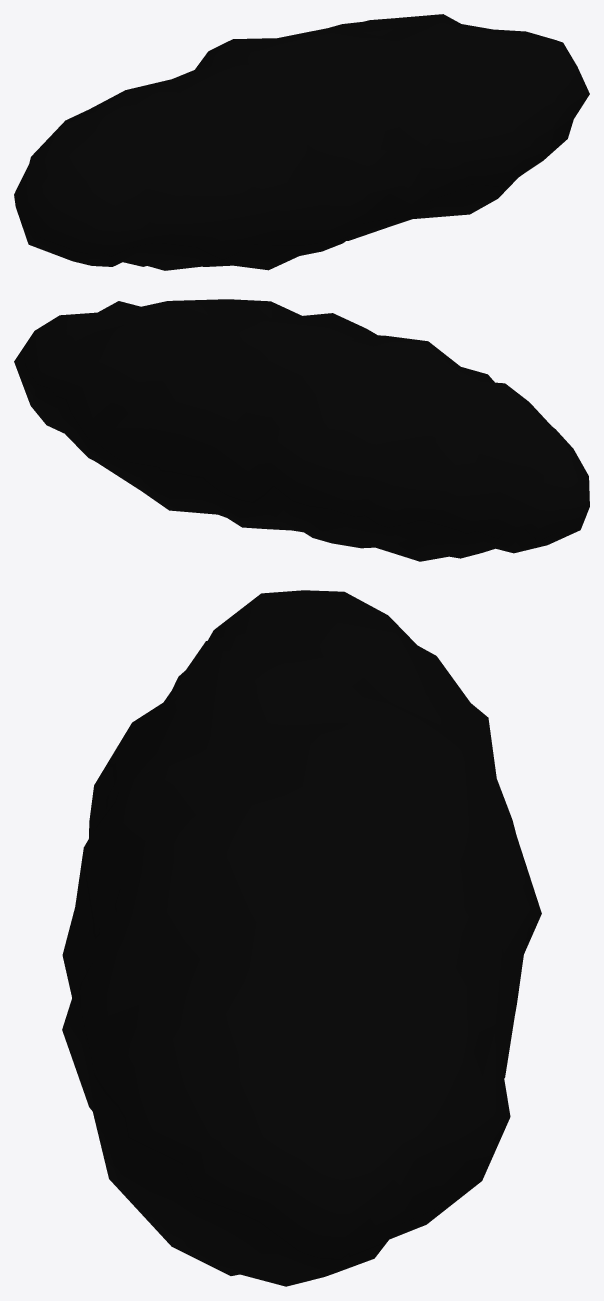
3 views of the same model, one above another, from view 1: azimuth 30°, elevation 25°; view 2: azimuth 150°, elevation 25°; view 3: azimuth 270°, elevation 25° (orthographic). The views are drawn at different scales.
Parts seen in each view (by area): view 1: Icosphere.017; view 2: Icosphere.017; view 3: Icosphere.017.
Boxes of the visible parts, x1,y1,x2,y2 form: Icosphere.017: (14,14,589,270); Icosphere.017: (14,299,589,561); Icosphere.017: (62,590,541,1286).
Size of the model in its own units: 1.99 by 0.6816 by 0.7409.
Materials: 1 (1 with a texture image).
